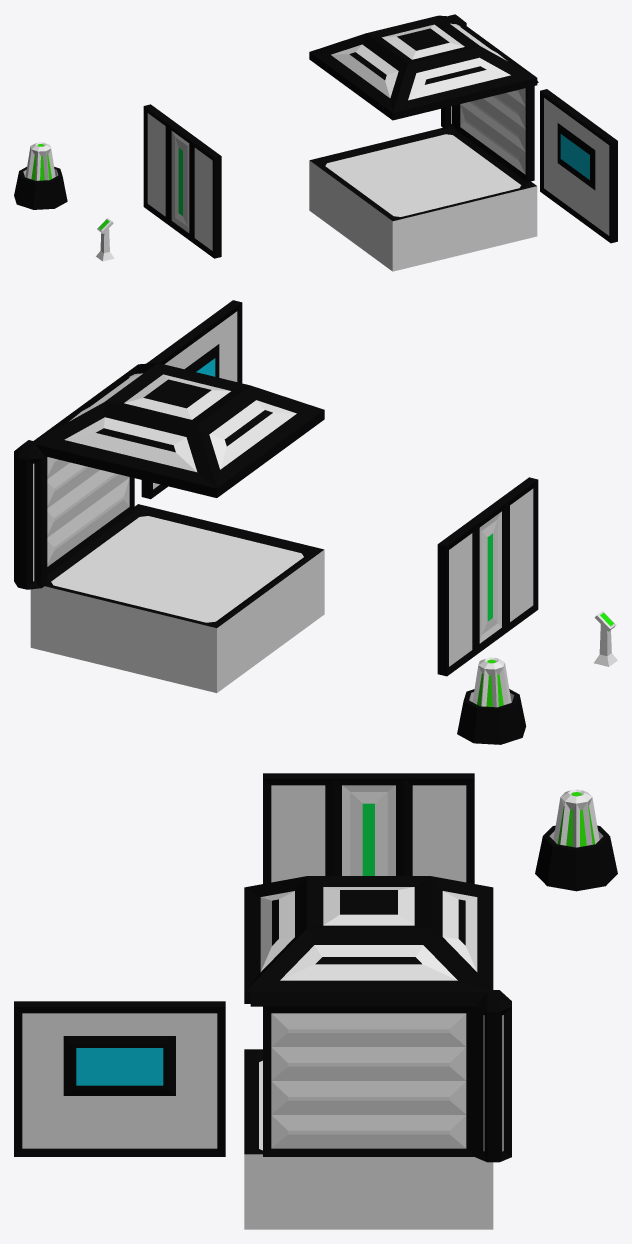
File: tiles.fbx
The picture shows the model from 3 angles, top to bottom: view 1: azimuth 30°, elevation 25°; view 2: azimuth 150°, elevation 25°; view 3: azimuth 270°, elevation 25°; orthographic projection. The views are drawn at different scales.
Visible parts, largest first — view 1: Floor, Ceiling, WallWindow, WallDoor, WallSolid, Generator, Door, Button, Pilar; view 2: Floor, Ceiling, WallDoor, WallSolid, WallWindow, Pilar, Generator, Door, Button; view 3: WallWindow, WallSolid, Ceiling, Floor, WallDoor, Generator, Pilar, Door, WallCap.
Boxes of the visible parts, x1,y1,x2,y2 form: Floor: (309, 127, 537, 271); Ceiling: (309, 15, 537, 120); WallWindow: (540, 89, 617, 243); WallDoor: (143, 104, 221, 258); WallSolid: (456, 86, 534, 182); Generator: (14, 142, 67, 209); Door: (171, 131, 189, 232); Button: (96, 218, 114, 261); Pilar: (441, 24, 466, 130); Floor: (30, 504, 324, 692); Ceiling: (31, 363, 324, 497); WallDoor: (437, 477, 538, 676); WallSolid: (47, 457, 134, 574); WallWindow: (141, 300, 242, 499); Pilar: (14, 452, 47, 589); Generator: (457, 657, 526, 744); Door: (479, 511, 501, 643); Button: (594, 611, 617, 666); WallWindow: (14, 1001, 225, 1156); WallSolid: (263, 1006, 474, 1156); Ceiling: (244, 876, 493, 1003); Floor: (244, 1049, 493, 1229); WallDoor: (263, 773, 474, 883); Generator: (535, 789, 617, 891); Pilar: (474, 1007, 511, 1162); Door: (342, 785, 395, 875); WallCap: (250, 992, 486, 1006).
Bounding box in the file's own units: 14.55 × 17.45 × 7.3.
